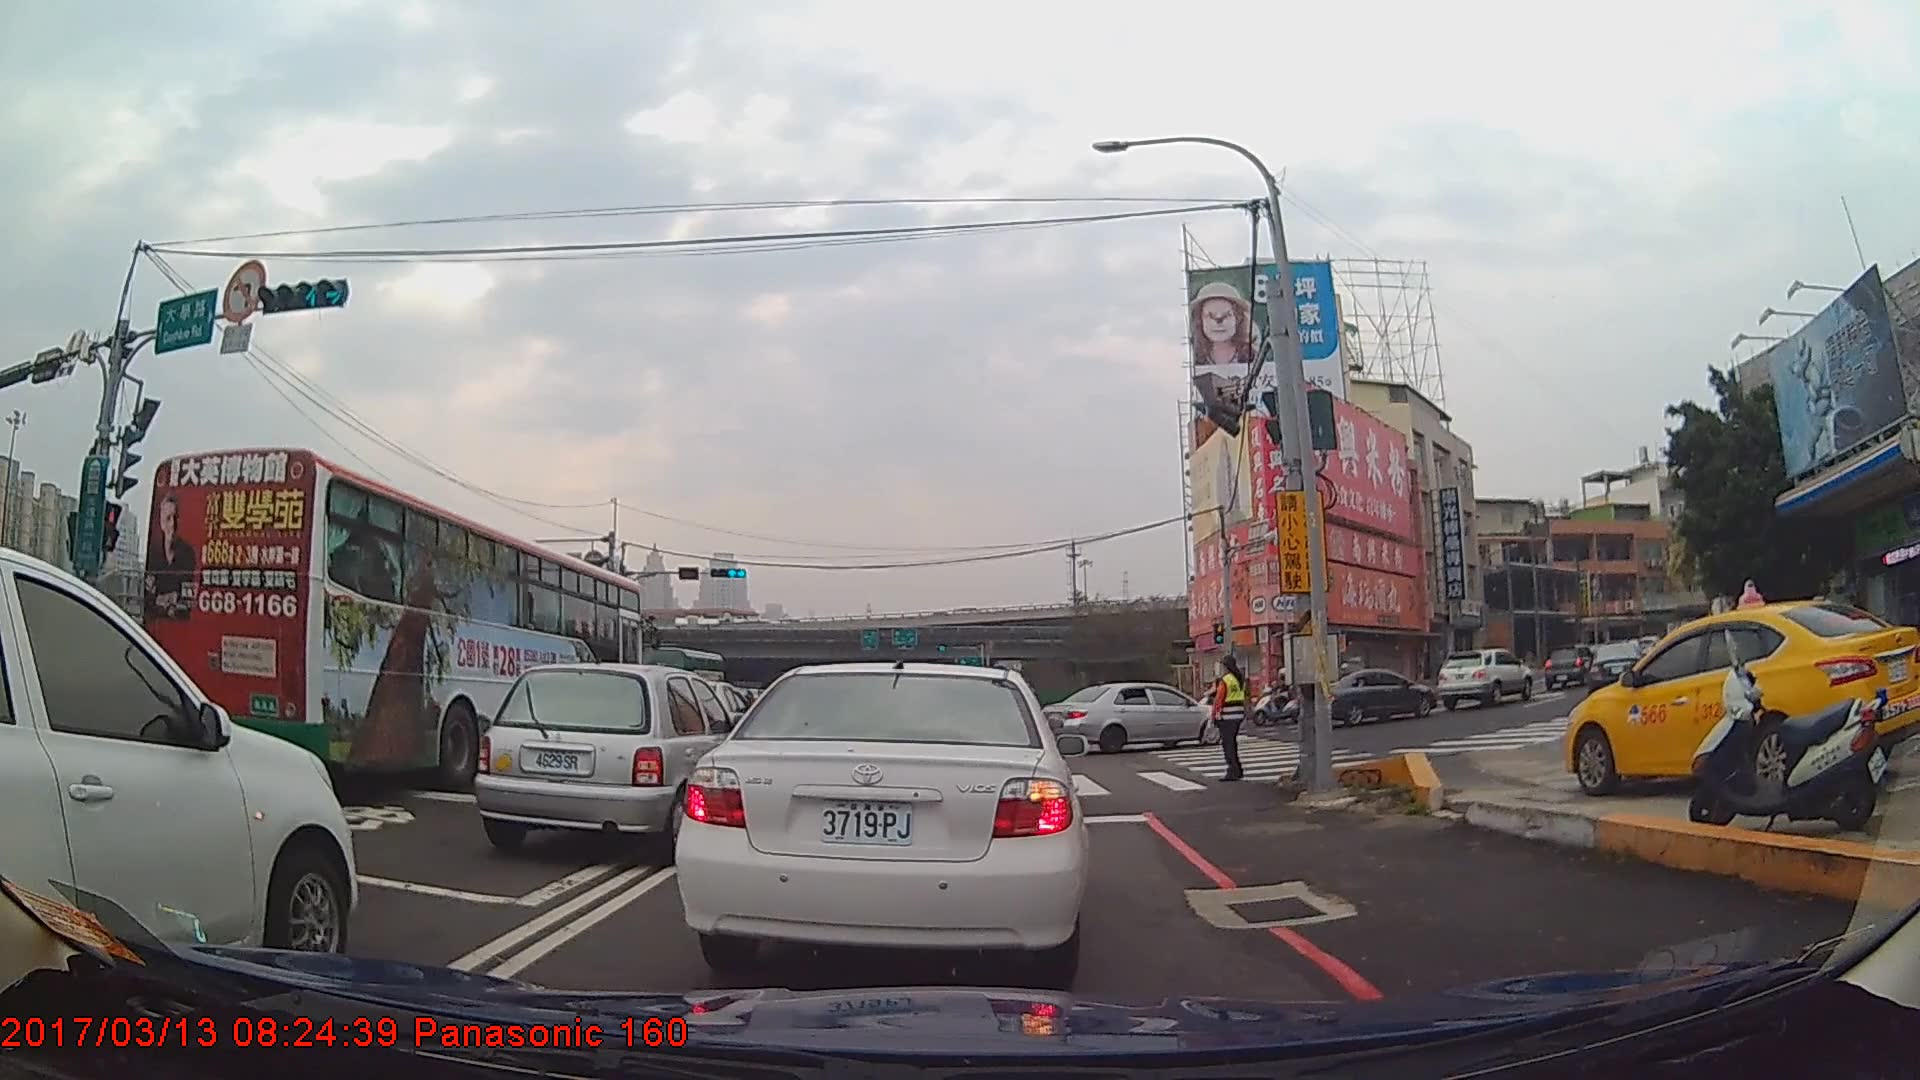pedestrian: (1205, 656, 1254, 786)
rider: (1253, 667, 1302, 725)
vehicle: (133, 439, 650, 799), (0, 546, 356, 994), (674, 662, 1091, 976), (1559, 597, 1920, 797), (473, 661, 754, 859), (1040, 681, 1224, 754), (1301, 667, 1434, 728), (1437, 647, 1534, 709), (1582, 638, 1651, 702), (1544, 644, 1597, 690)
